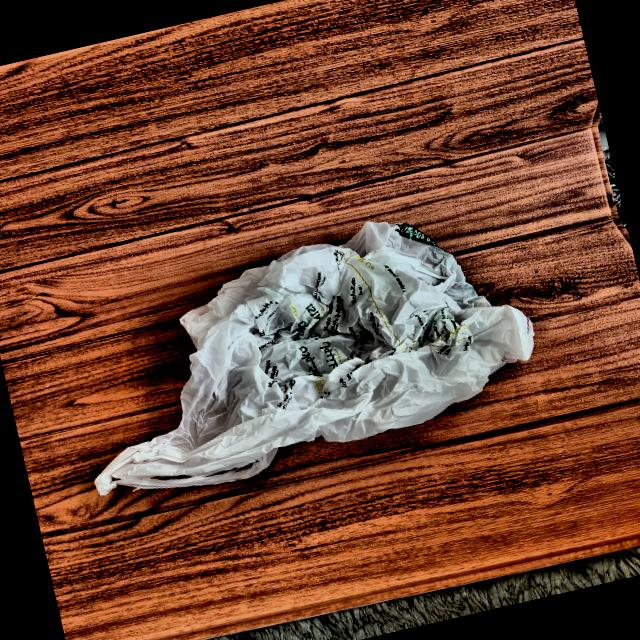plastic bag: (46, 187, 553, 514)
